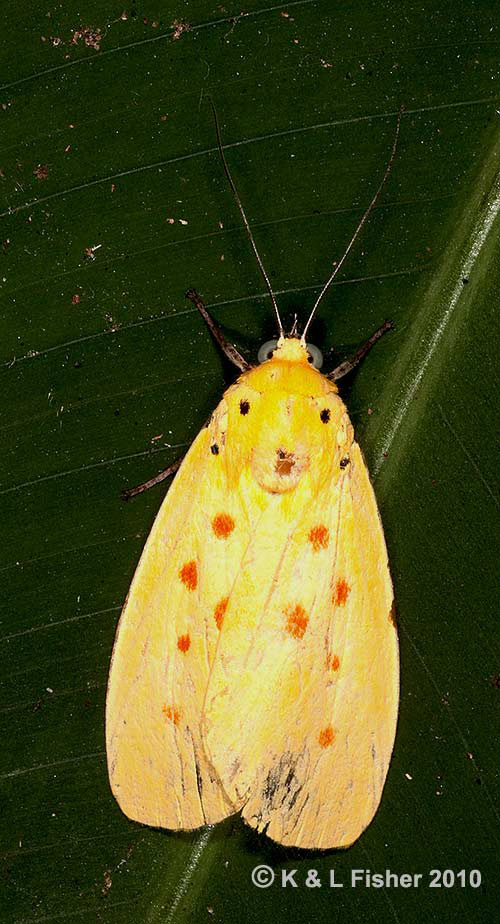Agape chloropyga: (100, 99, 414, 851)
moth: (102, 101, 416, 853)
